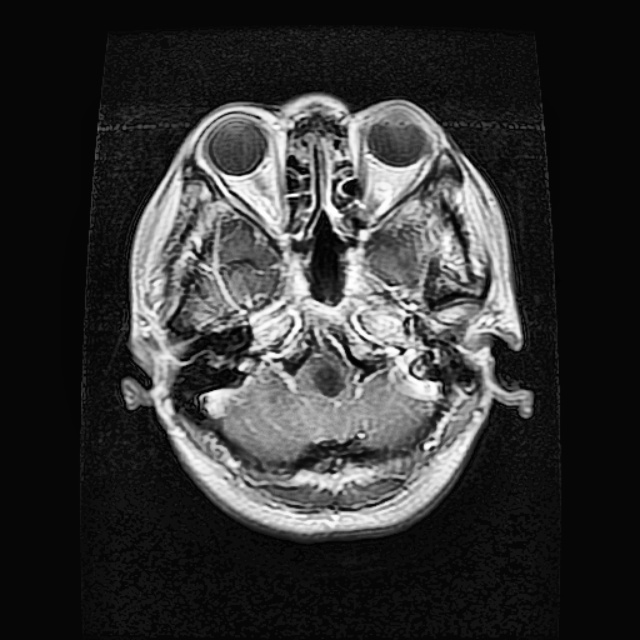Glioma: (310, 362, 345, 398)
